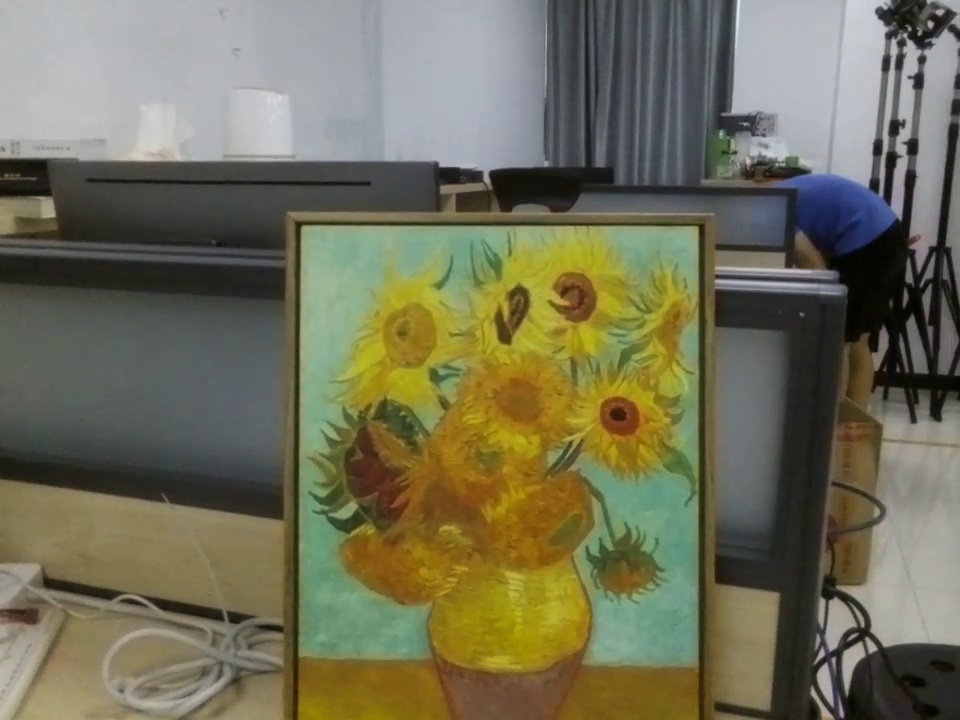painting: (288, 213, 721, 716)
